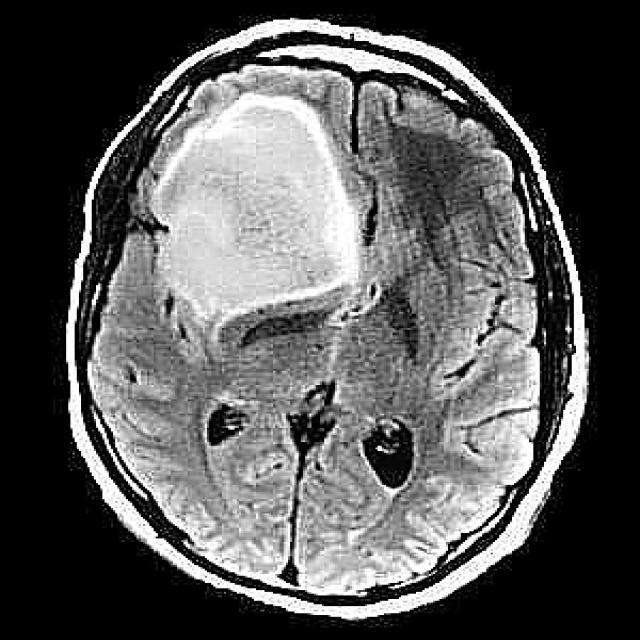Tumor-Cell: (153, 110, 363, 332)
